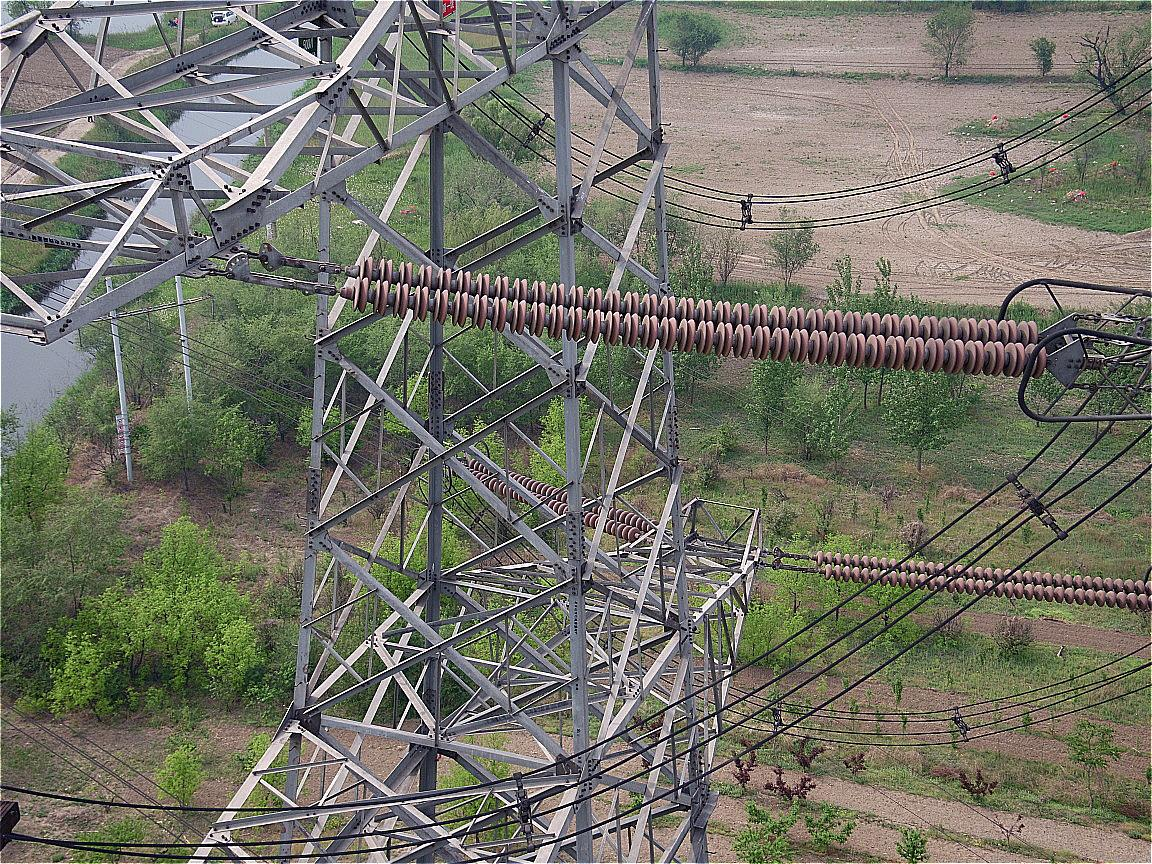insultor1: (815, 550, 1150, 609)
insultor2: (354, 256, 1049, 381)
